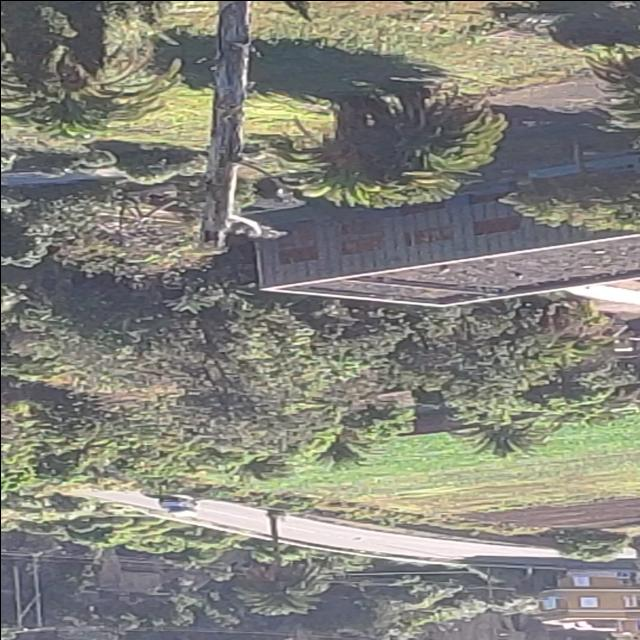Palm-Trees: (9, 36, 155, 132), (347, 90, 502, 172), (229, 512, 329, 614)
